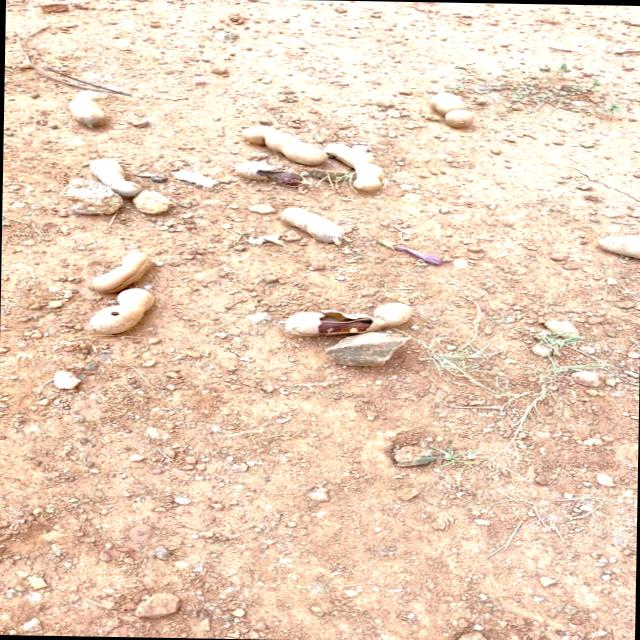tamarind: (276, 299, 417, 338), (237, 122, 336, 166), (322, 140, 387, 193), (94, 289, 162, 336), (87, 250, 156, 296), (276, 205, 352, 246), (84, 154, 145, 200), (65, 87, 115, 127), (434, 91, 474, 135), (228, 164, 306, 186)
